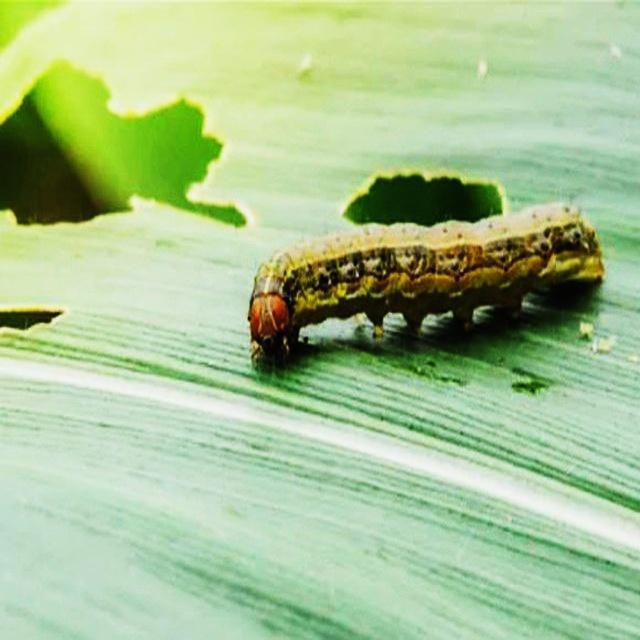gusano_cogollero: (244, 197, 607, 364)
